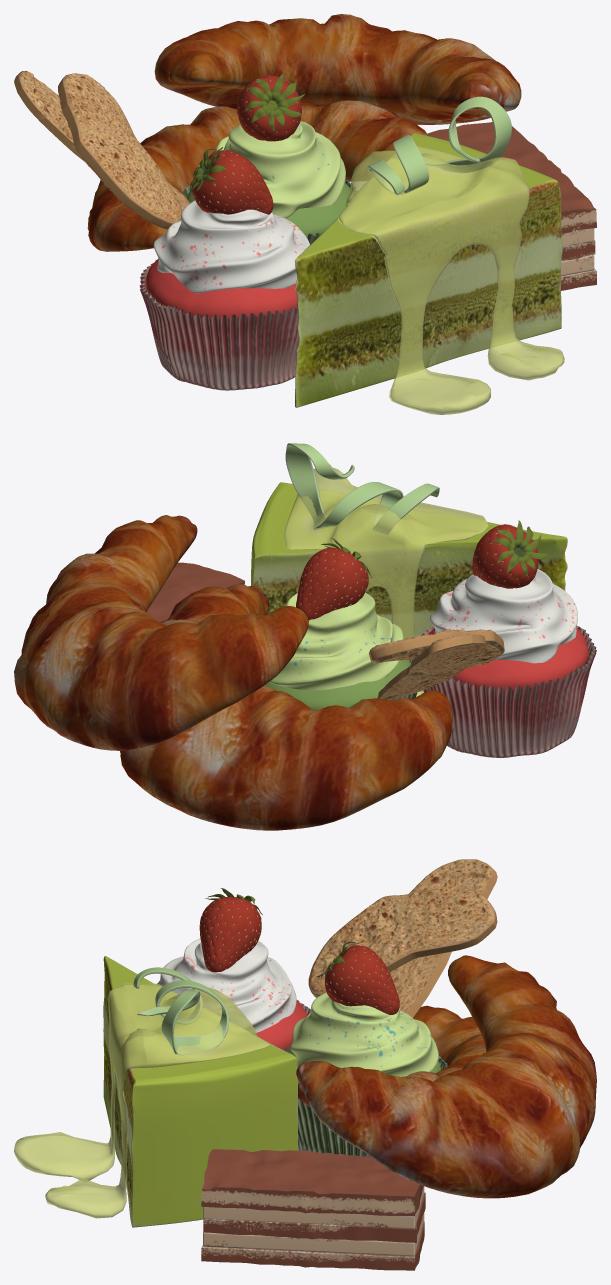
The model's file is gaodian.glb.
The picture shows the model from 3 angles, top to bottom: view 1: azimuth 30°, elevation 25°; view 2: azimuth 150°, elevation 25°; view 3: azimuth 270°, elevation 25°; orthographic projection. The views are drawn at different scales.
Parts seen in each view (by area): view 1: _______003, ______, _______004, _______005, _______001, _______002; view 2: ______, _______003, _______004, _______005, _______001, _______002; view 3: ______, _______003, _______002, _______005, _______001, _______004.
Boxes of the visible parts, x1,y1,x2,y2 form: _______003: (295, 96, 564, 414); ______: (87, 14, 521, 251); _______004: (139, 147, 309, 390); _______005: (183, 74, 356, 244); _______001: (14, 71, 189, 229); _______002: (427, 122, 596, 290); ______: (14, 515, 452, 830); _______003: (251, 443, 567, 696); _______004: (422, 520, 596, 757); _______005: (265, 538, 417, 710); _______001: (369, 629, 504, 699); _______002: (146, 562, 244, 621); ______: (296, 955, 596, 1198); _______003: (14, 956, 297, 1227); _______002: (201, 1149, 425, 1270); _______005: (287, 941, 448, 1156); _______001: (308, 859, 497, 1017); _______004: (157, 888, 311, 1051).
Bounding box in the file's own units: 0.3256 × 0.1544 × 0.37.
7 materials, 7 textured.
